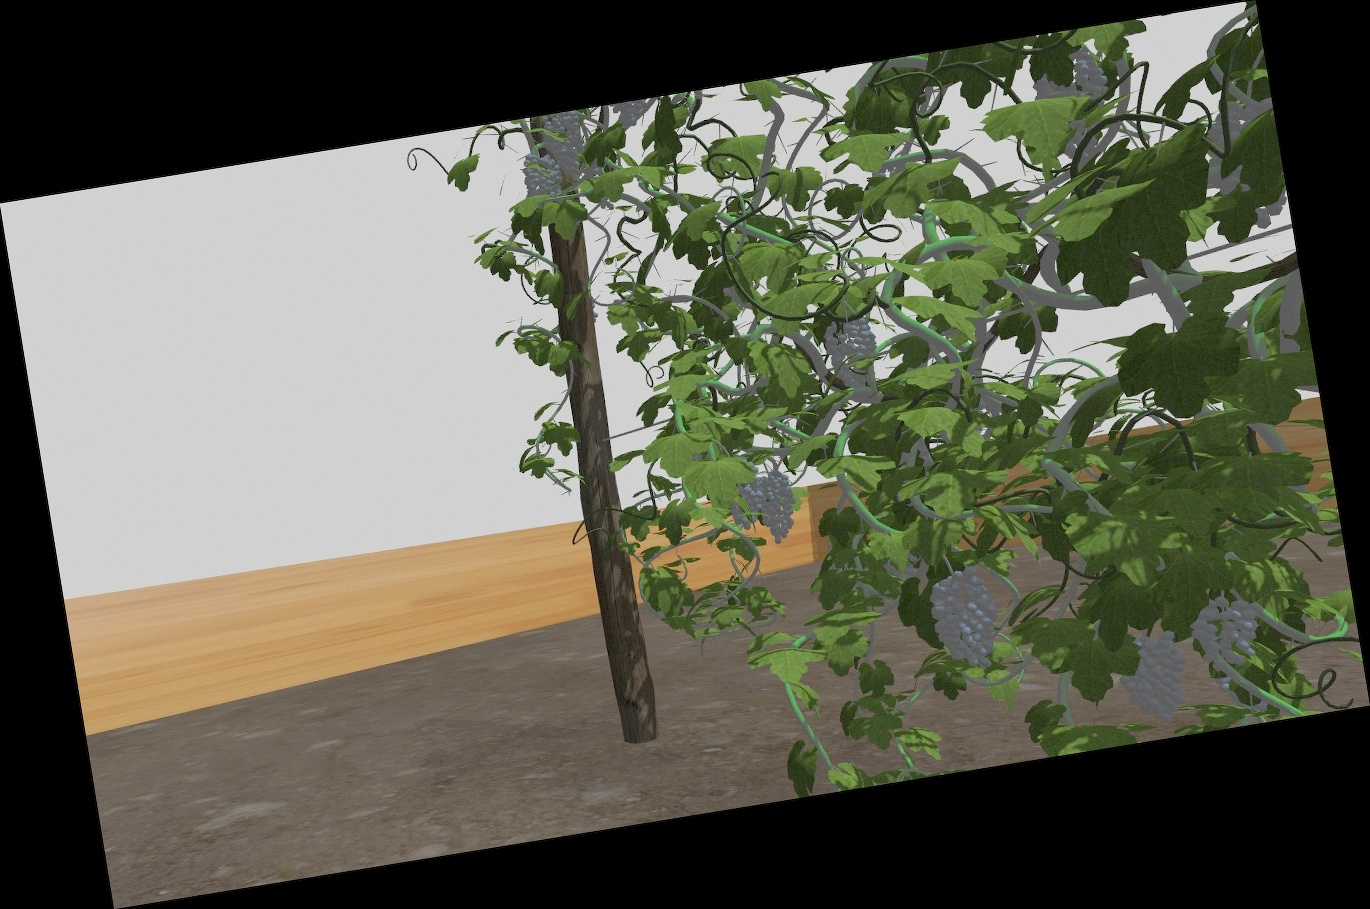grape: (932, 569, 998, 670), (1119, 635, 1189, 723), (1192, 597, 1261, 670), (827, 321, 881, 389), (546, 115, 590, 180), (755, 472, 796, 543), (523, 156, 560, 197)
